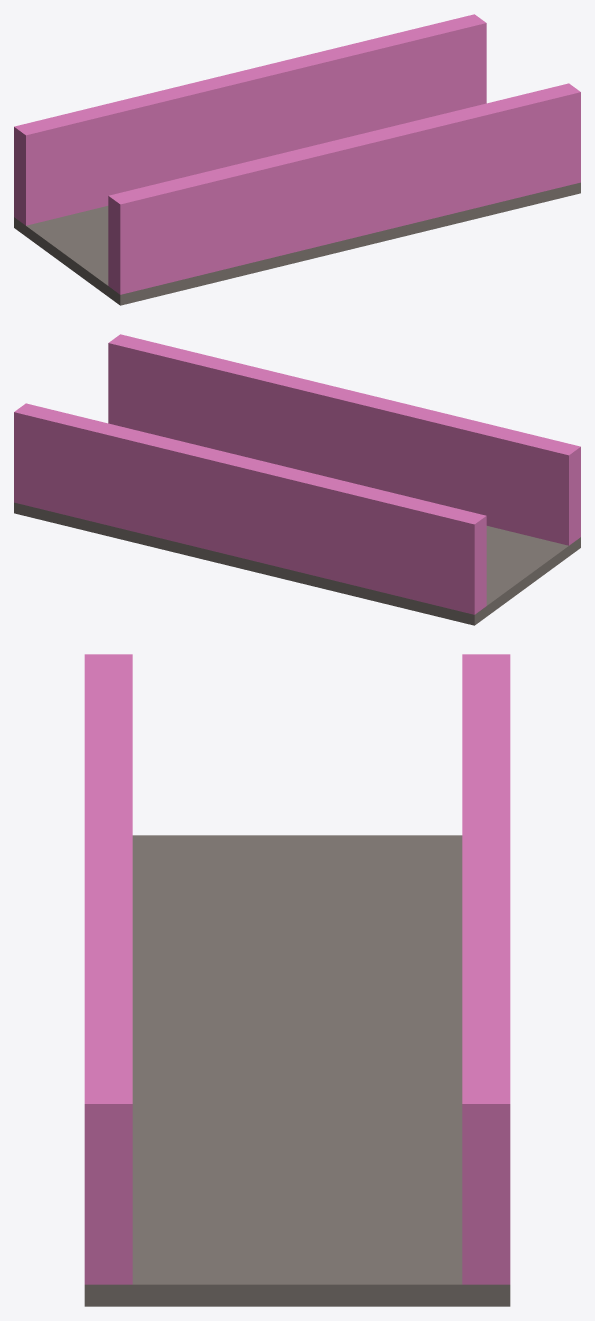
Rendered from I_way.fbx.
The picture shows the model from 3 angles, top to bottom: view 1: azimuth 30°, elevation 25°; view 2: azimuth 150°, elevation 25°; view 3: azimuth 270°, elevation 25°; orthographic projection. The views are drawn at different scales.
Parts seen in each view (by area): view 1: I_way; view 2: I_way; view 3: I_way.
Boxes of the visible parts, box(x1,y1,x2,y2) form: I_way: box(14, 14, 580, 305); I_way: box(14, 334, 580, 625); I_way: box(84, 654, 510, 1306).
Bounding box in the file's own units: 2000 × 420 × 800.
